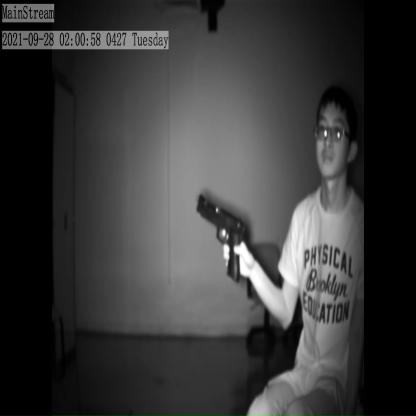weapon: (195, 190, 251, 286)
